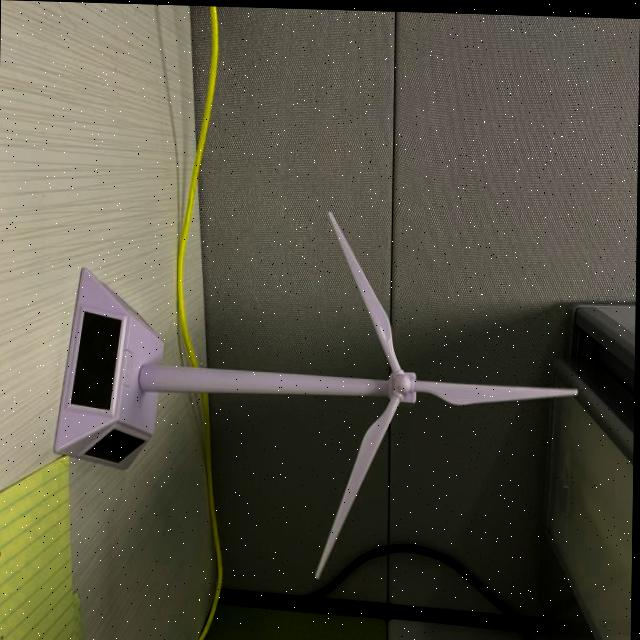solid-blade: (317, 394, 399, 576), (328, 209, 401, 370), (139, 362, 389, 394), (416, 377, 578, 402)
